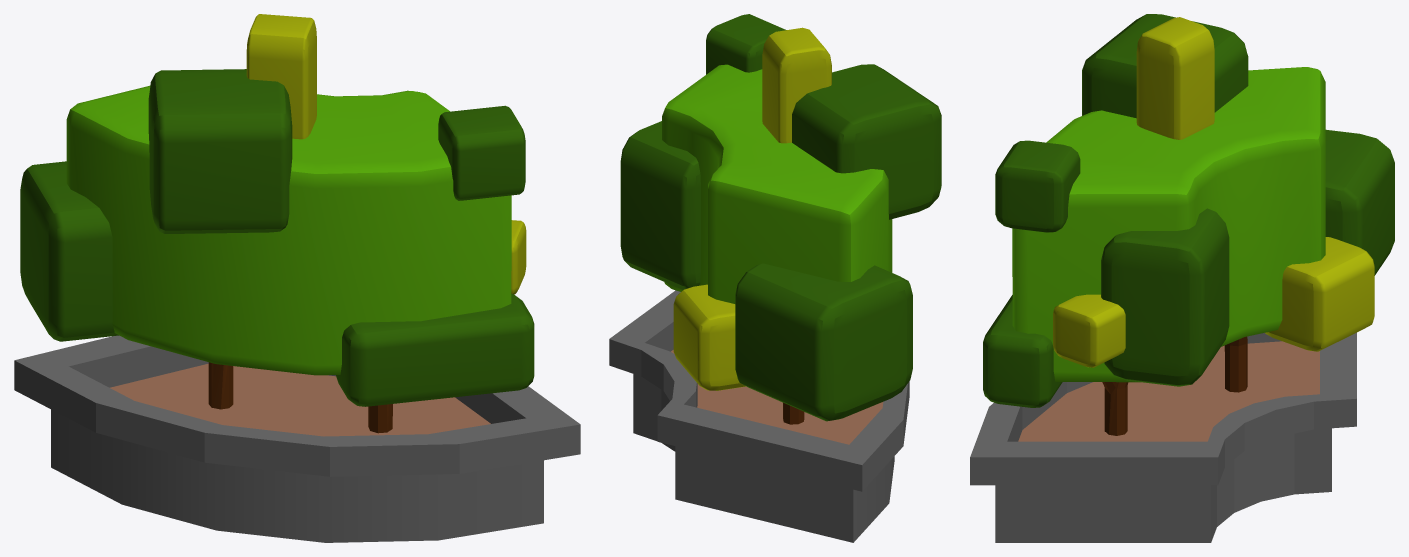
The model's file is Prop_circleBush.fbx.
The picture shows the model from 3 angles, left to right: view 1: azimuth 30°, elevation 25°; view 2: azimuth 150°, elevation 25°; view 3: azimuth 270°, elevation 25°; orthographic projection. The views are drawn at different scales.
Visible parts, largest first — view 1: pCylinder1, Vaso_Circ, Folhagem17, Folhagem24, Folhagem19, Folhagem23, Folhagem21, polySurface3, Folhagem20, polySurface2; view 2: Vaso_Circ, pCylinder1, Folhagem19, Folhagem17, Folhagem18, Folhagem22, Folhagem21, Folhagem23; view 3: Vaso_Circ, pCylinder1, Folhagem18, Folhagem21, Folhagem22, Folhagem19, Folhagem17, Folhagem23, Folhagem24, Folhagem20, polySurface2, polySurface3.
Boxes of the visible parts, <box> form: pCylinder1: <box>66,85,511,375</box>; Vaso_Circ: <box>14,335,580,542</box>; Folhagem17: <box>148,69,292,233</box>; Folhagem24: <box>336,293,534,406</box>; Folhagem19: <box>20,161,118,341</box>; Folhagem23: <box>438,105,525,200</box>; Folhagem21: <box>246,14,316,139</box>; polySurface3: <box>208,362,233,409</box>; Folhagem20: <box>511,220,526,294</box>; polySurface2: <box>368,404,392,433</box>; Vaso_Circ: <box>609,290,909,542</box>; pCylinder1: <box>662,64,892,303</box>; Folhagem19: <box>735,263,912,421</box>; Folhagem17: <box>792,64,941,219</box>; Folhagem18: <box>620,121,700,289</box>; Folhagem22: <box>673,284,745,390</box>; Folhagem21: <box>762,27,831,143</box>; Folhagem23: <box>706,14,786,74</box>; Vaso_Circ: <box>970,332,1356,542</box>; pCylinder1: <box>1012,67,1325,382</box>; Folhagem18: <box>1101,208,1229,386</box>; Folhagem21: <box>1136,17,1214,139</box>; Folhagem22: <box>1265,237,1374,351</box>; Folhagem19: <box>1325,129,1394,275</box>; Folhagem17: <box>1082,14,1248,118</box>; Folhagem23: <box>995,140,1080,232</box>; Folhagem24: <box>983,295,1062,407</box>; Folhagem20: <box>1053,294,1125,367</box>; polySurface2: <box>1102,382,1128,435</box>; polySurface3: <box>1224,336,1247,392</box>.
Bounding box in the file's own units: 217 × 257 × 226.
